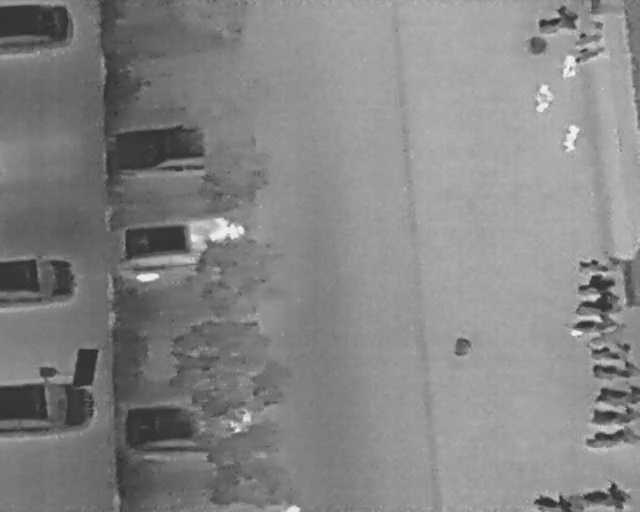Bicycle: (535, 4, 582, 35), (582, 480, 630, 510), (583, 425, 639, 448), (575, 269, 618, 298), (570, 313, 621, 336), (572, 292, 619, 316), (586, 340, 635, 363), (591, 406, 639, 428), (592, 359, 639, 380), (595, 384, 639, 406), (570, 40, 607, 64), (533, 491, 570, 510), (575, 28, 603, 48), (577, 258, 610, 274)
Car: (111, 213, 252, 275), (119, 398, 253, 451), (106, 124, 232, 178), (0, 379, 97, 438), (0, 253, 80, 308), (0, 2, 77, 54)
Person: (558, 121, 583, 155), (532, 80, 555, 114), (561, 52, 579, 81)
